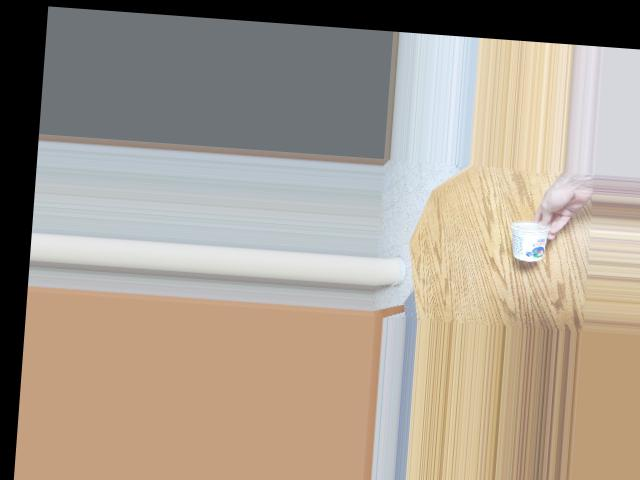cotage: (504, 218, 552, 260)
